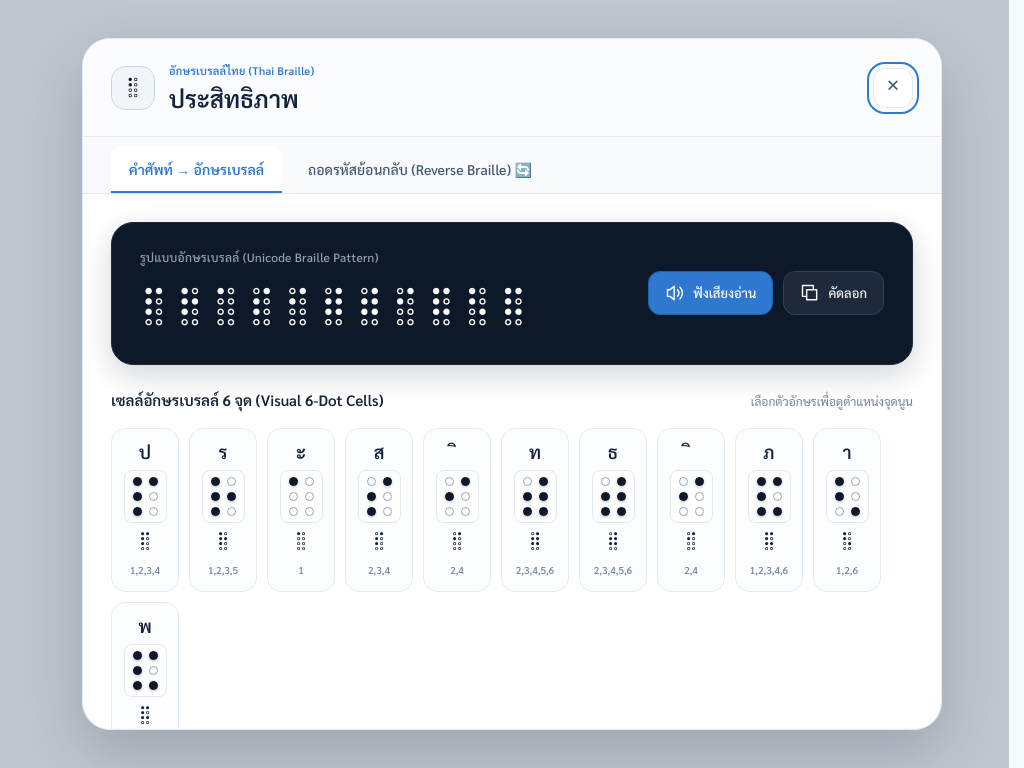
BrailleModal Component › displays Unicode Braille pattern banner and supports clipboard copy
This screenshot has width=1024, height=768.
Note: Click copy button
Click the button with aria-label "คัดลอกอักษรเบรลล์" at (834, 294), box [783, 272, 884, 316]
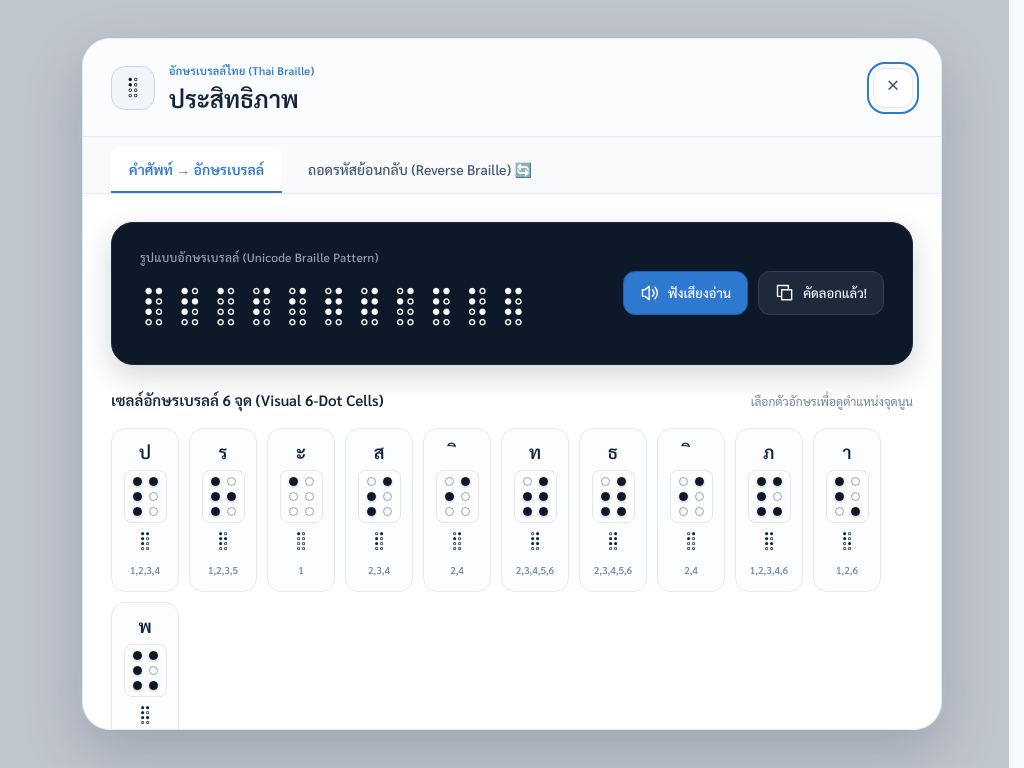
Now the text "คัดลอกแล้ว!" is shown, box [803, 282, 867, 305]
